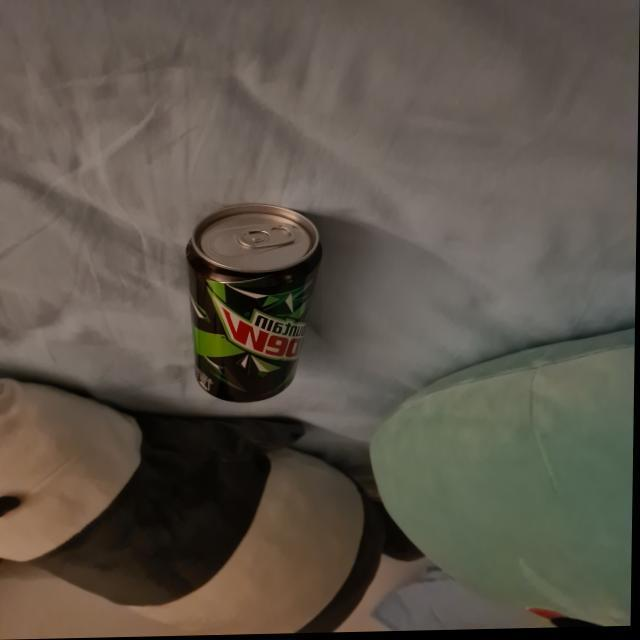trash: (175, 200, 327, 404)
